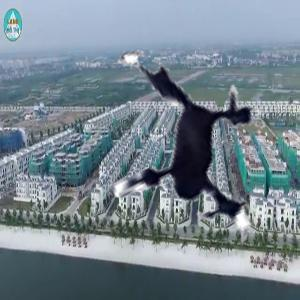drone: (48, 29, 300, 281)
